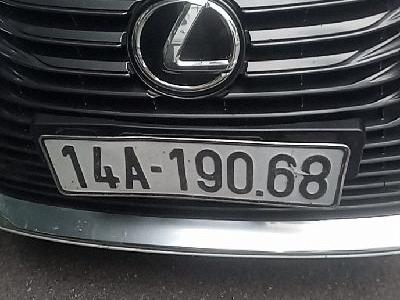number: (39, 133, 344, 212)
